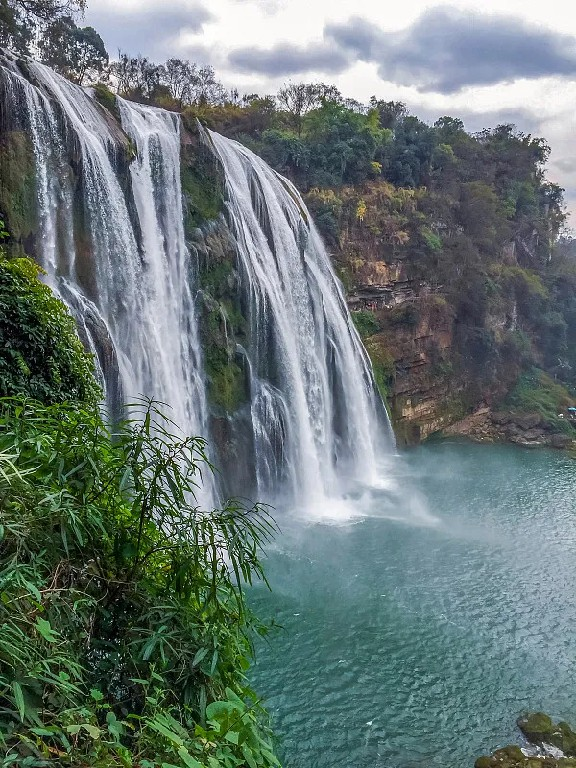Huangguoshu: (23, 56, 396, 522)
